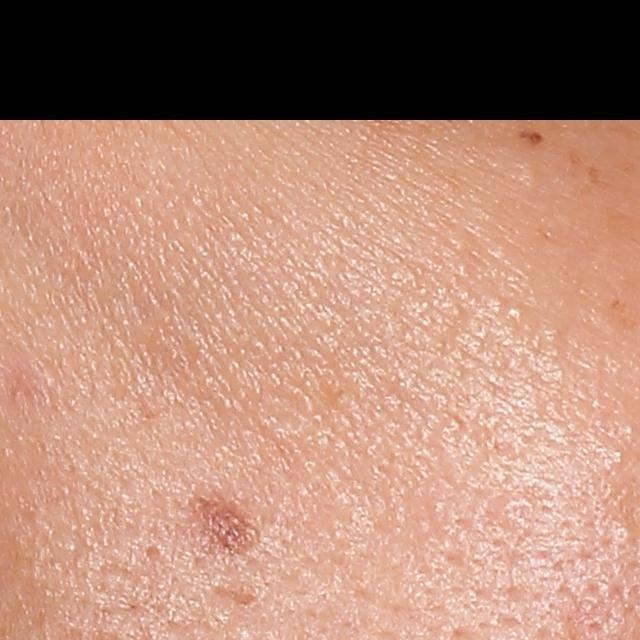comedo: (138, 541, 166, 571)
melasma: (564, 141, 585, 169), (587, 163, 609, 188)
nevus: (189, 495, 260, 554), (516, 128, 549, 150)
